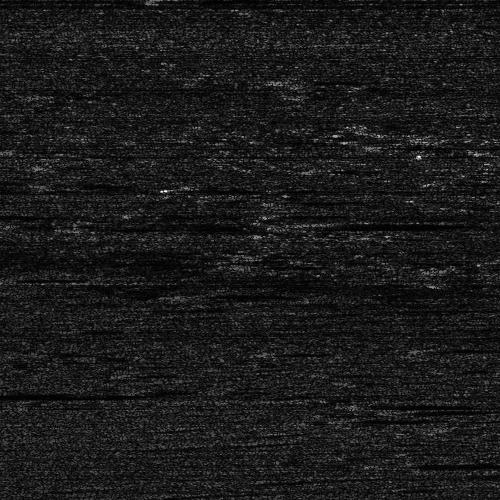rock: (262, 218, 345, 227), (153, 289, 216, 298), (359, 460, 412, 465), (483, 254, 500, 263), (347, 399, 358, 406)
shadow: (0, 387, 156, 398), (304, 218, 434, 227), (185, 289, 274, 298), (353, 399, 452, 406), (386, 460, 500, 465)
